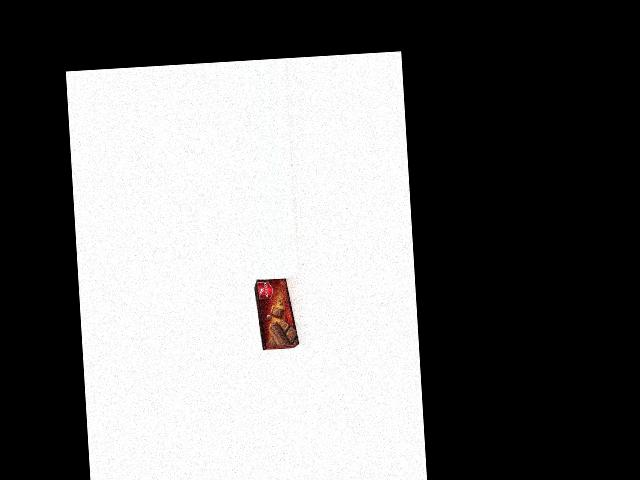chocolate: (253, 277, 300, 349)
